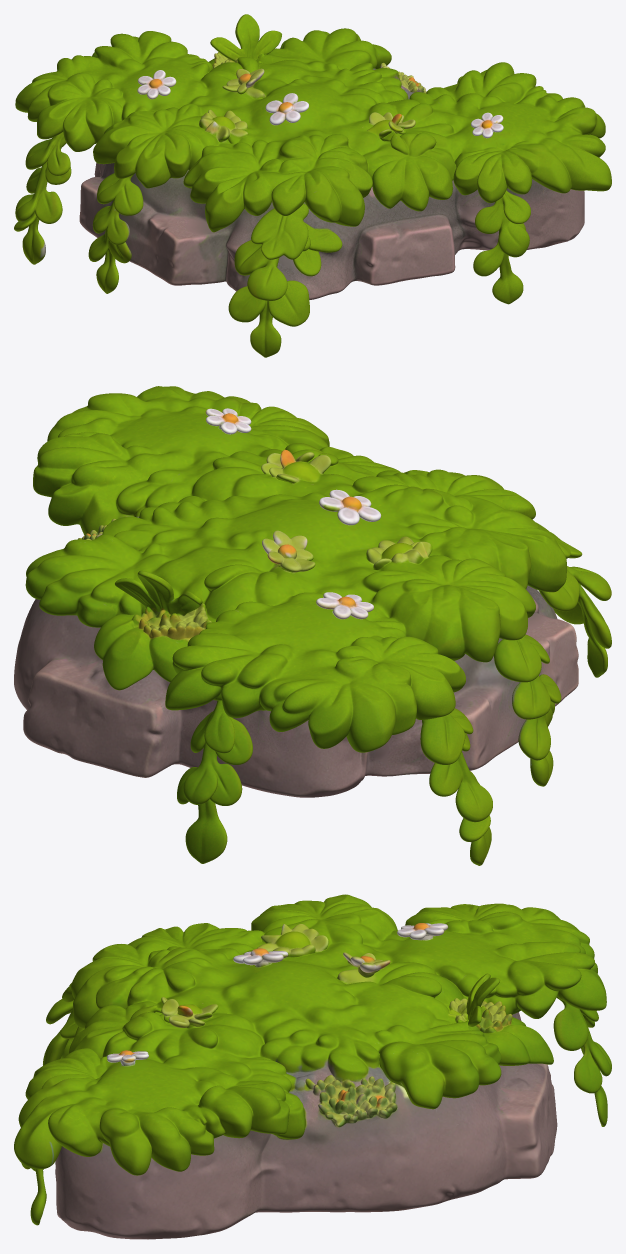
Rendered from hanging-moss-rock-edge-01.glb.
3 renders of one model, top to bottom at view 1: azimuth 30°, elevation 25°; view 2: azimuth 150°, elevation 25°; view 3: azimuth 270°, elevation 25°, orthographic. The views are drawn at different scales.
Bounding box in the file's own units: 1.89 × 0.7133 × 1.79.
Materials: 1 (1 with a texture image).
